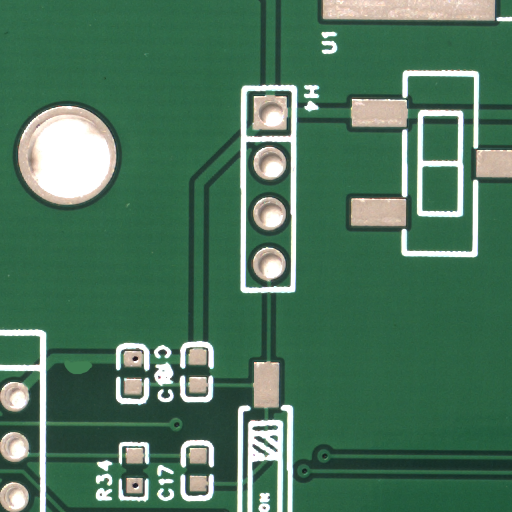Spur: (77, 367, 108, 382)
